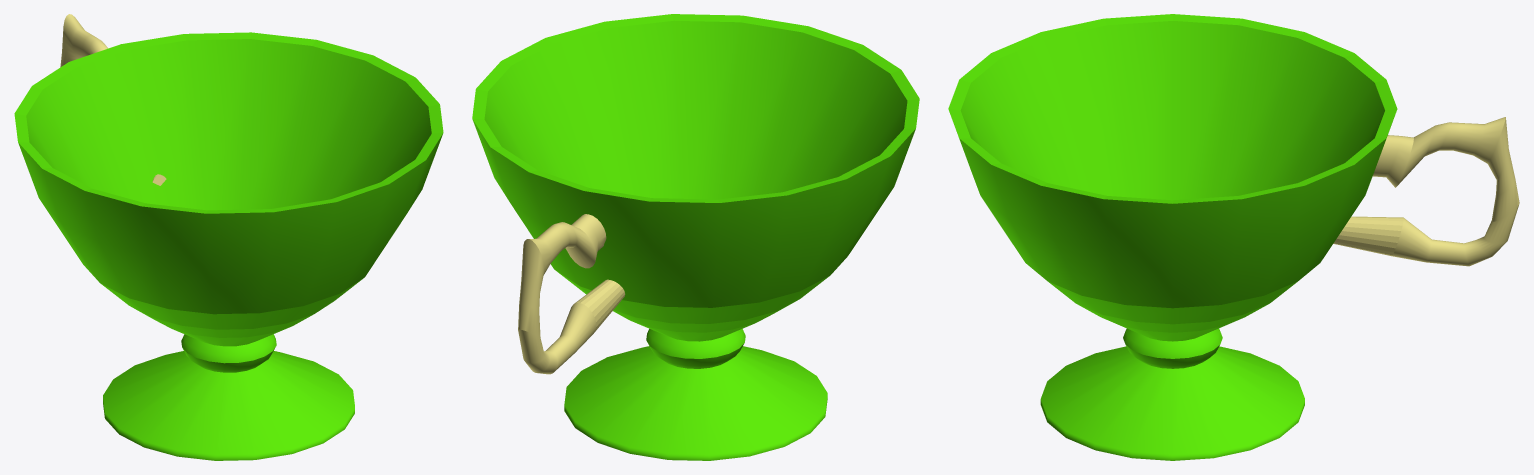
The model's file is teacup.fbx.
3 renders of one model, left to right at view 1: azimuth 30°, elevation 25°; view 2: azimuth 150°, elevation 25°; view 3: azimuth 270°, elevation 25°, orthographic. The views are drawn at different scales.
Parts seen in each view (by area): view 1: pCylinder1, pCylinder2; view 2: pCylinder1, pCylinder2; view 3: pCylinder1, pCylinder2.
Boxes of the visible parts, x1=… form: pCylinder1: x1=14, y1=32, x2=443, y2=460; pCylinder2: x1=60, y1=14, x2=166, y2=185; pCylinder1: x1=472, y1=14, x2=919, y2=460; pCylinder2: x1=518, y1=214, x2=625, y2=374; pCylinder1: x1=948, y1=14, x2=1397, y2=460; pCylinder2: x1=1333, y1=117, x2=1519, y2=266.
Size of the model in its own units: 1.98 by 1.44 by 2.52.
